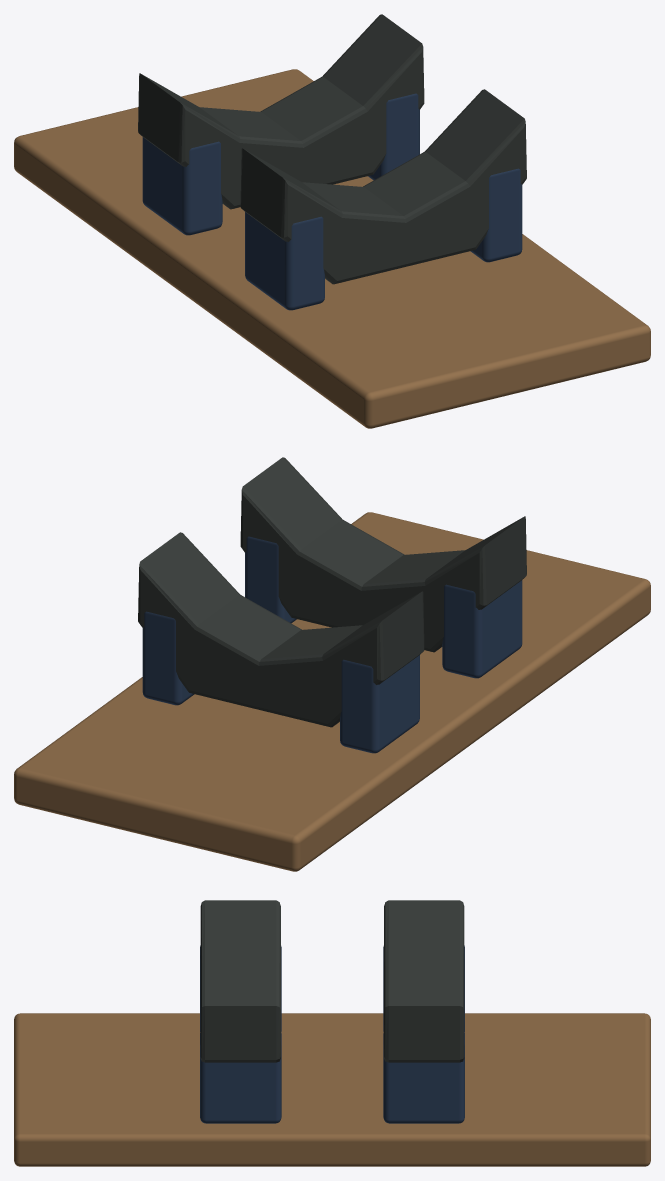
Rendered from planetarium-and-optical-observatory-telescope-transpor-a2c704ea__31866.glb.
3 views of the same model, one above another, from view 1: azimuth 30°, elevation 25°; view 2: azimuth 150°, elevation 25°; view 3: azimuth 270°, elevation 25° (orthographic). The views are drawn at different scales.
Parts seen in each view (by area): view 1: telescope-transport-cradle; view 2: telescope-transport-cradle; view 3: telescope-transport-cradle.
Part boxes in pixels (left/top/right/bottom): telescope-transport-cradle: left=14, top=14, right=650, bottom=428; telescope-transport-cradle: left=14, top=457, right=650, bottom=871; telescope-transport-cradle: left=14, top=900, right=650, bottom=1166.
Size of the model in its own units: 0.58 by 0.3315 by 1.25.
